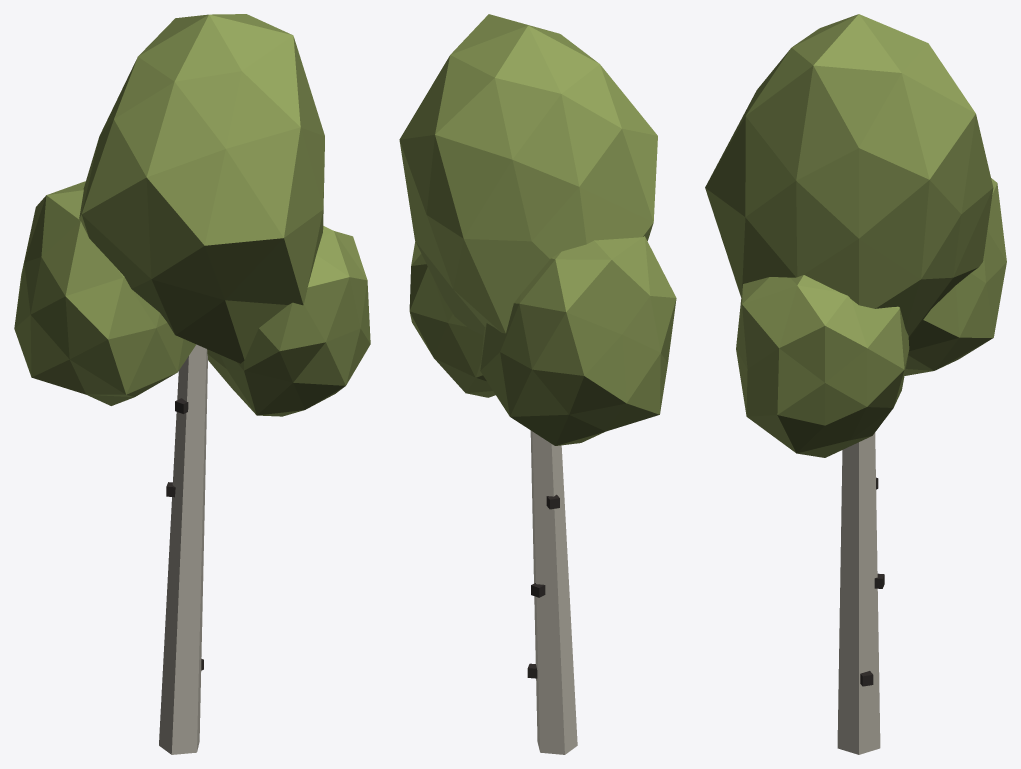
File: birch.glb
The picture shows the model from 3 angles, left to right: view 1: azimuth 30°, elevation 25°; view 2: azimuth 150°, elevation 25°; view 3: azimuth 270°, elevation 25°; orthographic projection. The views are drawn at different scales.
Parts seen in each view (by area): view 1: birch; view 2: birch; view 3: birch.
Boxes of the visible parts, <box> form: birch: <box>14,14,370,754</box>; birch: <box>399,14,676,754</box>; birch: <box>705,14,1006,754</box>.
Size of the model in its own units: 2.99 by 7.3 by 2.68.
